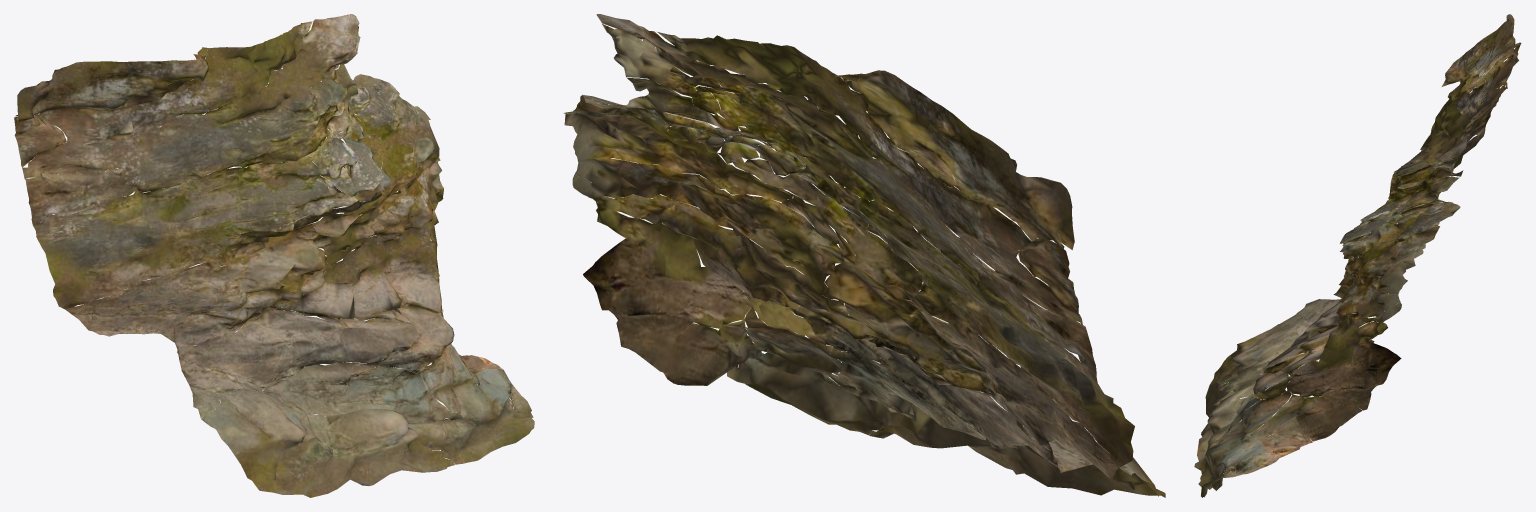
The model's file is rock_face_02.glb.
The picture shows the model from 3 angles, left to right: view 1: azimuth 30°, elevation 25°; view 2: azimuth 150°, elevation 25°; view 3: azimuth 270°, elevation 25°; orthographic projection. The views are drawn at different scales.
Visible parts, largest first — view 1: rock_face_02; view 2: rock_face_02; view 3: rock_face_02.
Part boxes in pixels (x1=…): rock_face_02: x1=14, y1=14, x2=534, y2=497; rock_face_02: x1=563, y1=14, x2=1165, y2=497; rock_face_02: x1=1194, y1=14, x2=1521, y2=497.
Size of the model in its own units: 2.71 by 2.48 by 2.13.
1 material, 1 textured.
